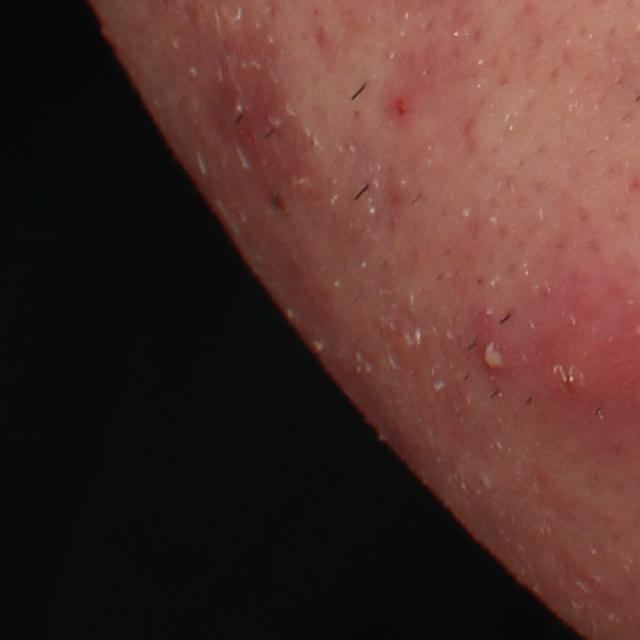papule: (378, 88, 426, 135)
pustule: (475, 334, 518, 381)
